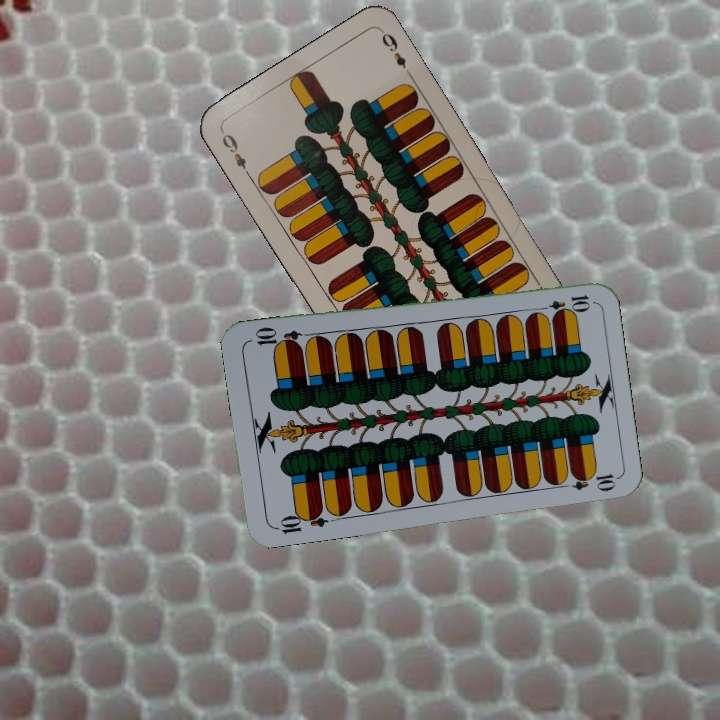E10: (271, 505, 330, 536), (534, 291, 593, 315)
E9: (217, 126, 254, 180)
